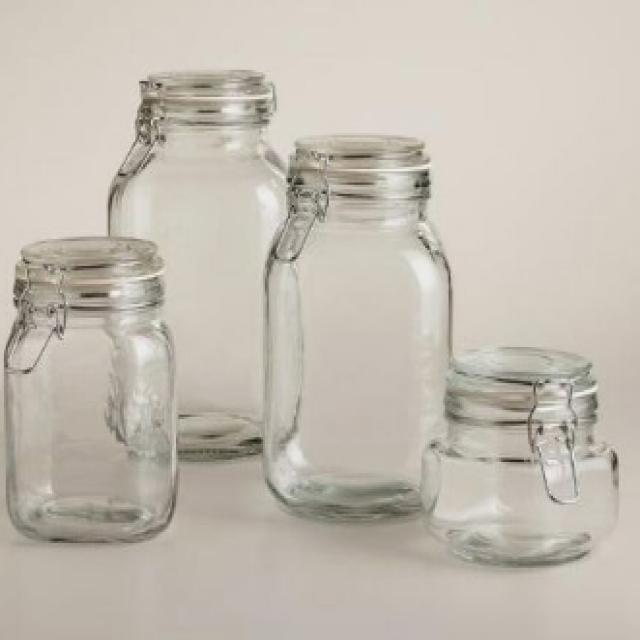ToplesKaca: (260, 149, 450, 519), (10, 230, 178, 555), (442, 337, 634, 580)
